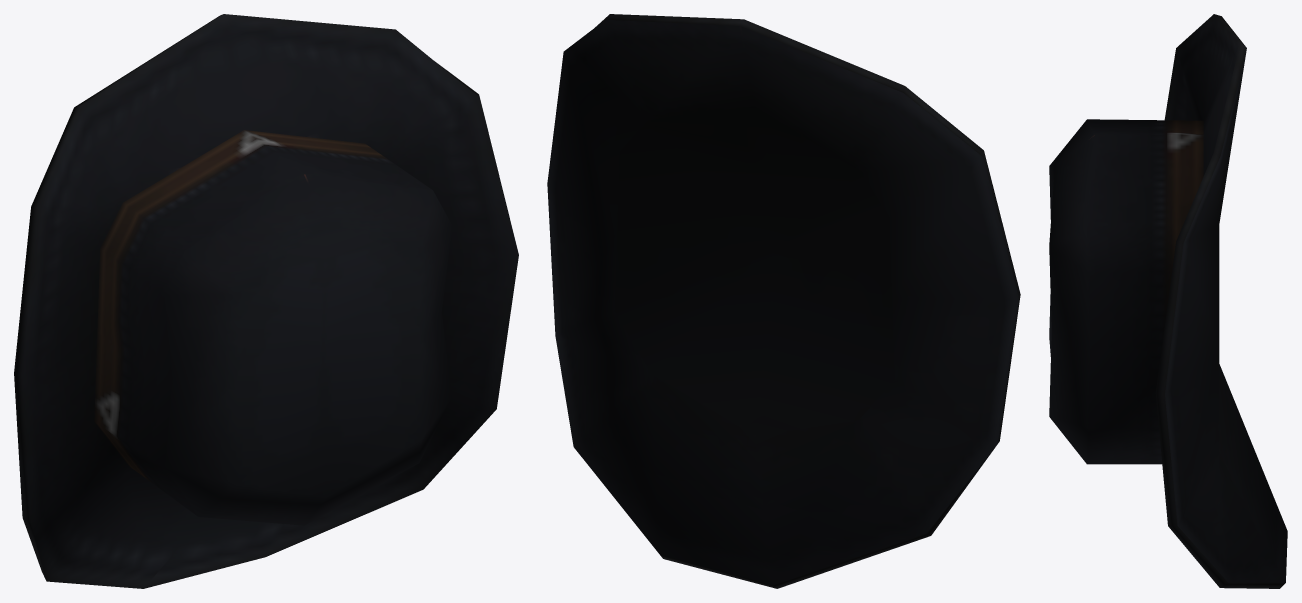
Rendered from Avatar_Cowboy_H_01_83eab2f7__Avatar_Cowboy_B_01_5eab356a_c1f257.obj.
3 renders of one model, left to right at view 1: azimuth 30°, elevation 25°; view 2: azimuth 150°, elevation 25°; view 3: azimuth 270°, elevation 25°, orthographic. The views are drawn at different scales.
Size of the model in its own units: 1.27 by 1.39 by 0.5793.
Materials: 1 (1 with a texture image).
